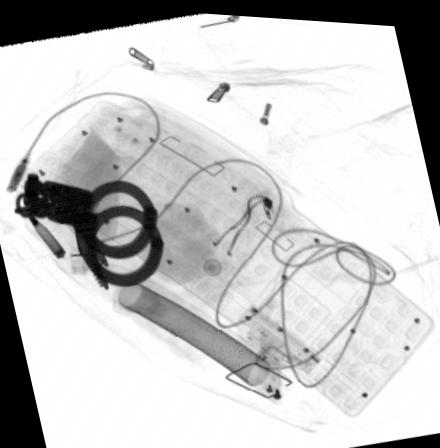Bullet: (19, 203, 65, 258)
HandCuffs: (12, 171, 163, 292)
